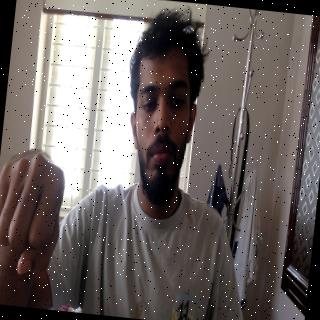Yes: (0, 119, 90, 283)
